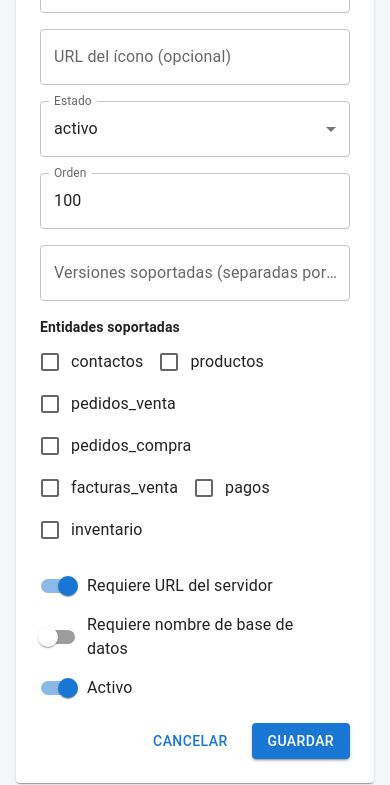
Scenario: ProveedorIntegracionFormPage (react-hook-form + zod) › muestra errores por campo y no envía con el formulario vacío
(page scrolled)
Click the button "Guardar".
click(301, 741)  # box [252,723,350,759]
(page scrolled)
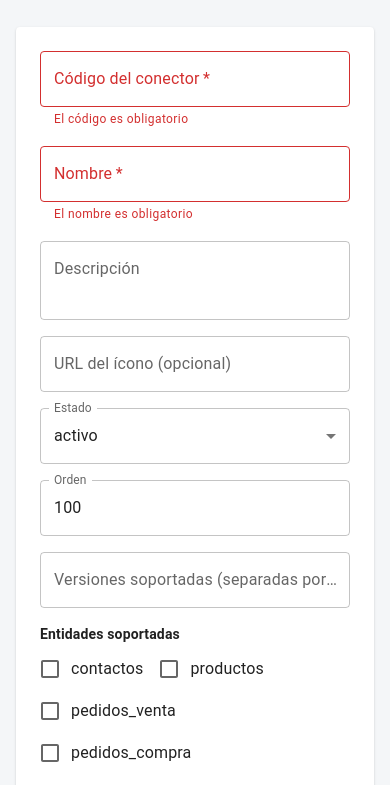
Now the text "El código es obligatorio" is shown, box [54,112,188,126]
Now the text "El nombre es obligatorio" is shown, box [54,207,193,221]
